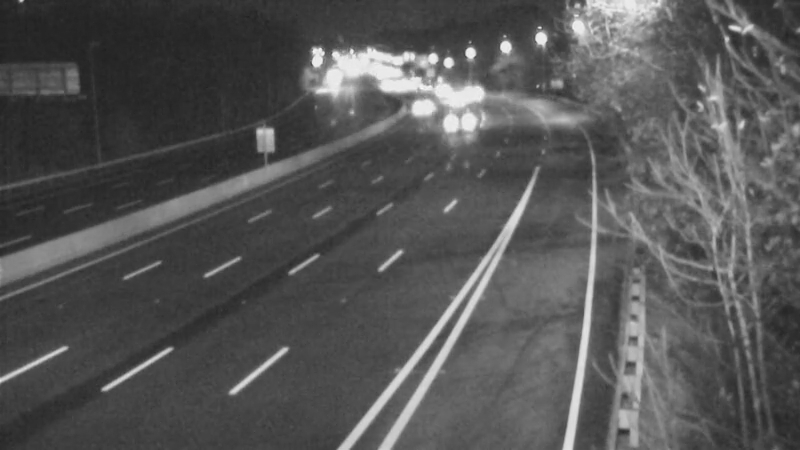vehicle: (428, 78, 478, 128), (394, 77, 444, 127), (449, 87, 499, 137)
